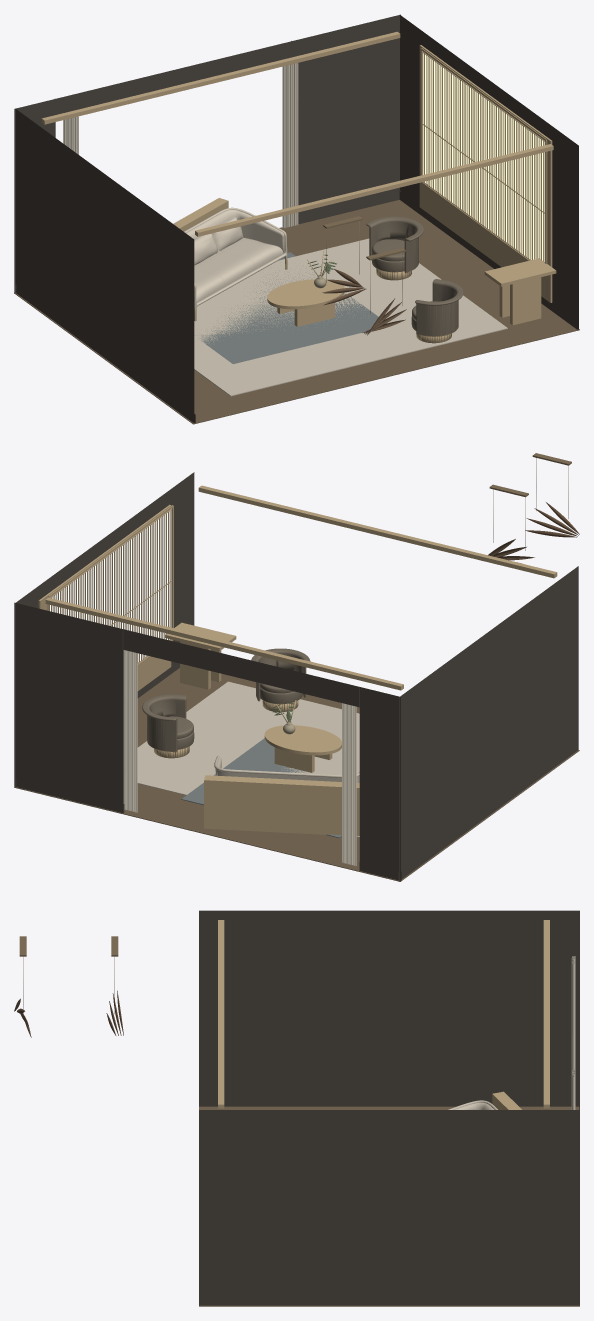
The model's file is great-2.glb.
3 views of the same model, one above another, from view 1: azimuth 30°, elevation 25°; view 2: azimuth 150°, elevation 25°; view 3: azimuth 270°, elevation 25° (orthographic). The views are drawn at different scales.
Parts seen in each view (by area): view 1: DESIGN | great removable wall finish, DESIGN | Great room primary ground, DESIGN | great floor finish, DESIGN | Kumiko | Long luminous room backdrop, DESIGN | Long luminous room backdrop diffuse backing, DESIGN | Secondary occupied textile field, DESIGN | Great room sofa facing conversation, DESIGN | Retreat timber wall plane, DESIGN | Required Bellustar swivel chair one, DESIGN | Retreat concealed light edge.001, DESIGN | Retreat concealed light edge, DESIGN | Great room soft window edge.001 (+7 smaller); view 2: DESIGN | great removable wall finish, DESIGN | Great room primary ground, DESIGN | Kumiko | Long luminous room backdrop, DESIGN | great floor finish, DESIGN | Low plane behind retreat sofa, DESIGN | Long luminous room backdrop diffuse backing, DESIGN | Retreat concealed light edge, DESIGN | Retreat concealed light edge.001, DESIGN | Required Bellustar swivel chair one, DESIGN | Great room soft window edge, DESIGN | Great room soft window edge.001, DESIGN | Great room conversation table top (+8 smaller); view 3: DESIGN | great removable wall finish, DESIGN | great floor finish, DESIGN | Retreat concealed light edge, DESIGN | Retreat concealed light edge.001, DESIGN | Great room soft window edge.
Boxes of the visible parts, <box> form: DESIGN | great removable wall finish: <box>14,14,578,423</box>; DESIGN | Great room primary ground: <box>194,238,507,396</box>; DESIGN | great floor finish: <box>14,200,579,424</box>; DESIGN | Kumiko | Long luminous room backdrop: <box>420,48,547,264</box>; DESIGN | Long luminous room backdrop diffuse backing: <box>423,53,544,261</box>; DESIGN | Secondary occupied textile field: <box>198,252,386,363</box>; DESIGN | Great room sofa facing conversation: <box>184,207,287,321</box>; DESIGN | Retreat timber wall plane: <box>419,45,552,302</box>; DESIGN | Required Bellustar swivel chair one: <box>366,216,423,280</box>; DESIGN | Retreat concealed light edge.001: <box>41,31,400,124</box>; DESIGN | Retreat concealed light edge: <box>195,144,553,236</box>; DESIGN | Great room soft window edge.001: <box>282,63,298,228</box>; DESIGN | great removable wall finish: <box>14,472,578,880</box>; DESIGN | Great room primary ground: <box>137,681,359,837</box>; DESIGN | Kumiko | Long luminous room backdrop: <box>47,505,173,666</box>; DESIGN | great floor finish: <box>14,668,579,881</box>; DESIGN | Low plane behind retreat sofa: <box>204,775,359,835</box>; DESIGN | Long luminous room backdrop diffuse backing: <box>50,510,171,661</box>; DESIGN | Retreat concealed light edge: <box>198,485,557,578</box>; DESIGN | Retreat concealed light edge.001: <box>45,597,403,690</box>; DESIGN | Required Bellustar swivel chair one: <box>142,694,194,758</box>; DESIGN | Great room soft window edge: <box>342,703,356,866</box>; DESIGN | Great room soft window edge.001: <box>123,650,137,812</box>; DESIGN | Great room conversation table top: <box>264,725,341,755</box>; DESIGN | great removable wall finish: <box>199,910,579,1305</box>; DESIGN | great floor finish: <box>199,1106,579,1306</box>; DESIGN | Retreat concealed light edge: <box>218,920,224,1108</box>; DESIGN | Retreat concealed light edge.001: <box>543,920,549,1108</box>; DESIGN | Great room soft window edge: <box>571,956,575,1070</box>.
Bounding box in the file's own units: 6 × 3.04 × 7.16.
